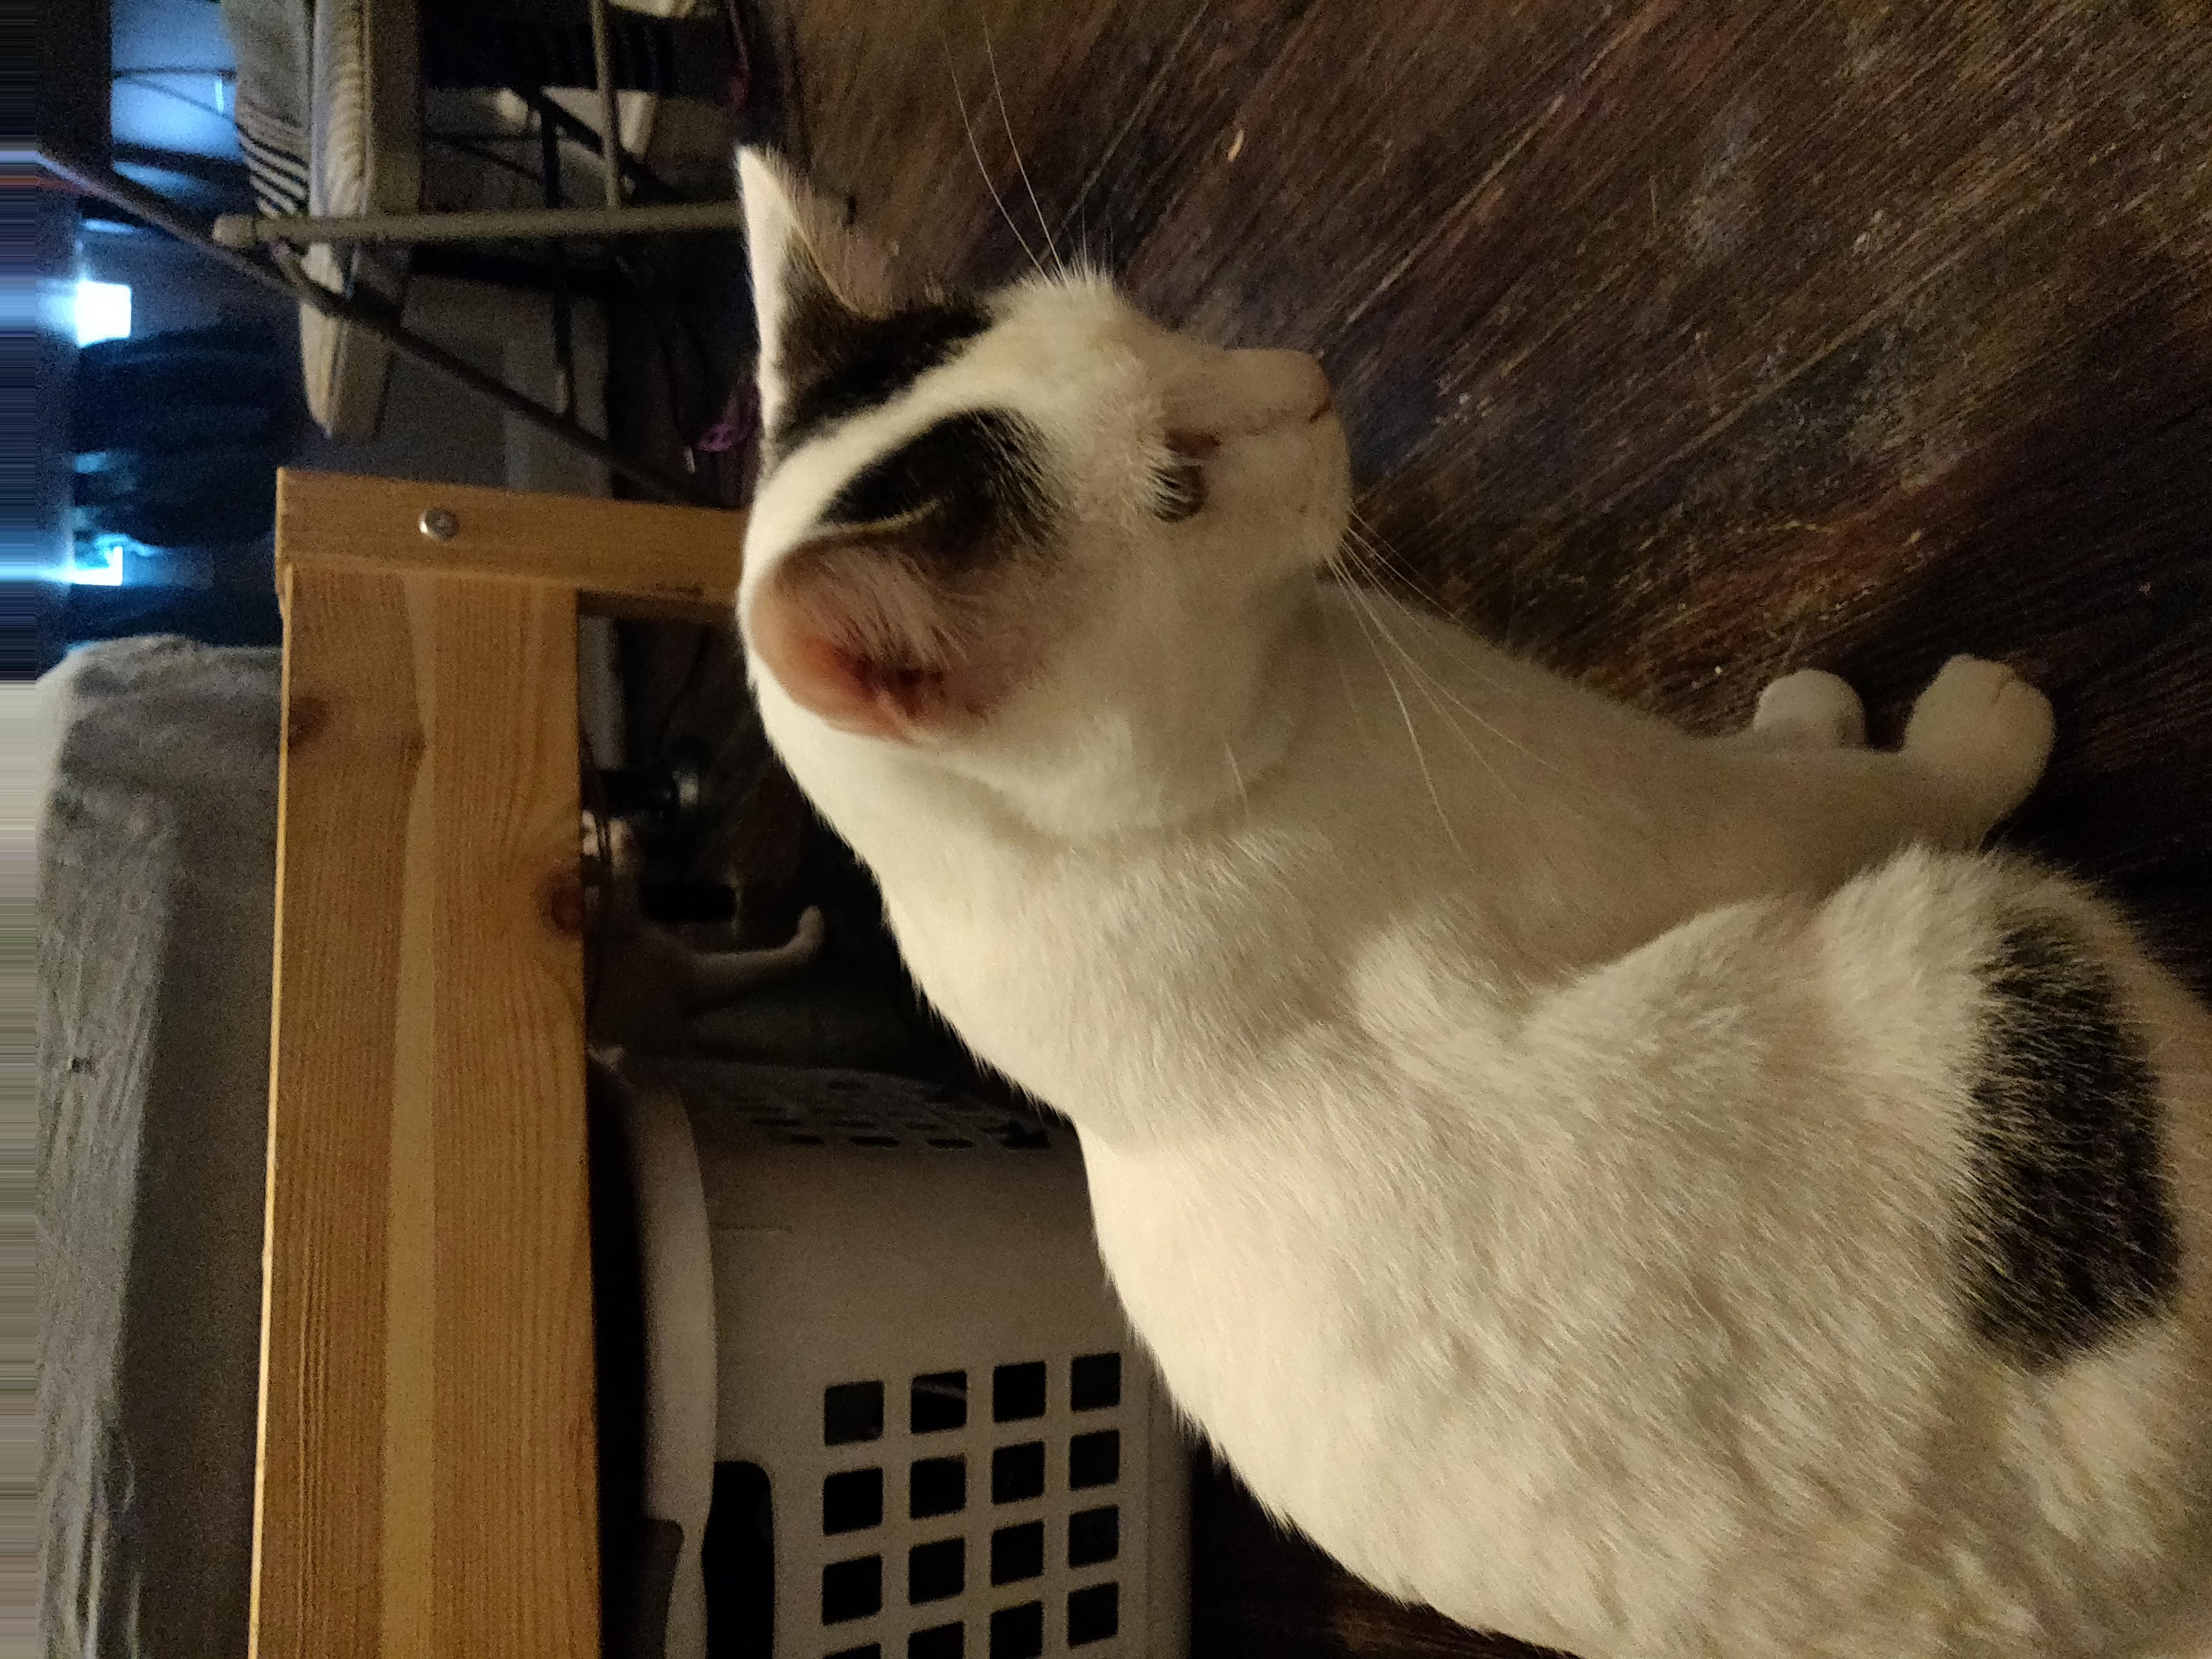cat: (724, 133, 2212, 1659)
